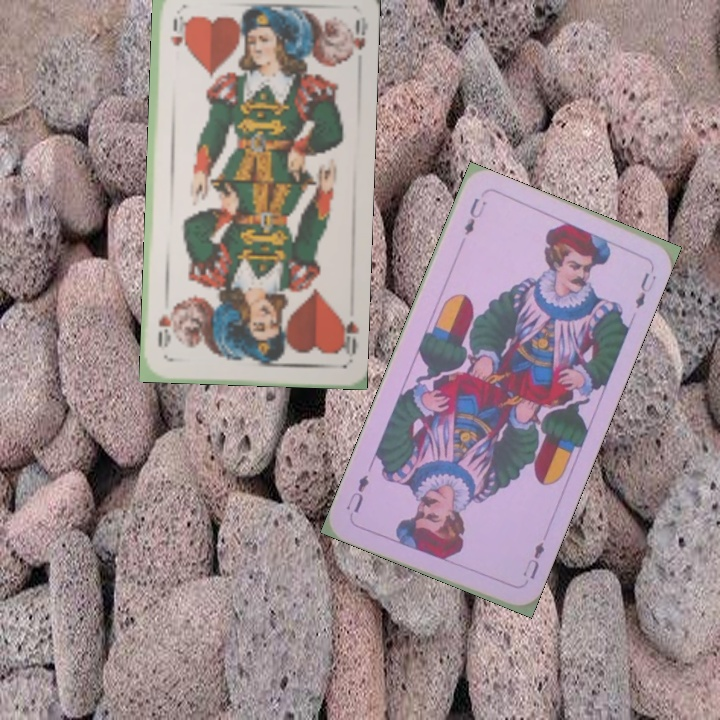EU: (518, 537, 547, 582), (460, 193, 489, 238)
HO: (333, 311, 361, 357), (166, 12, 185, 49)
